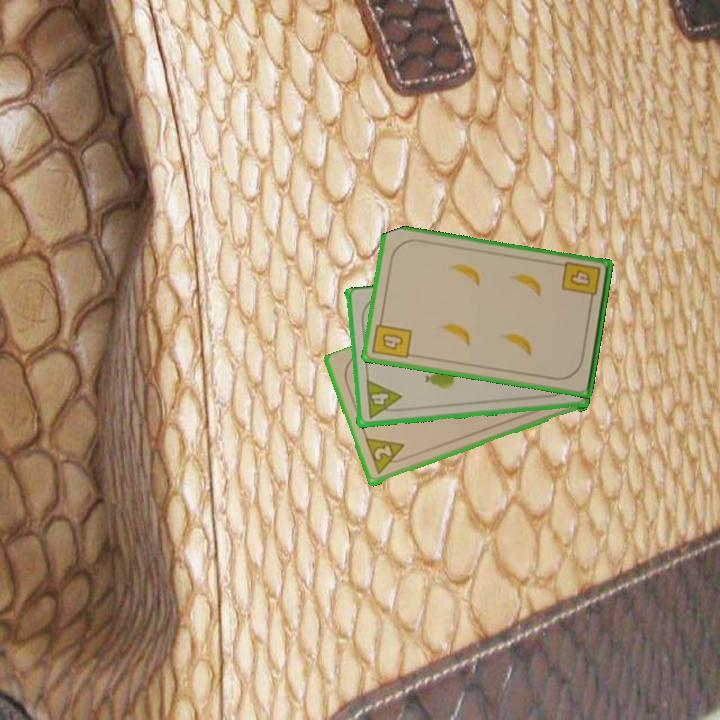2p: (362, 435, 410, 479)
4b: (558, 258, 604, 307), (369, 314, 415, 362)
4p: (362, 377, 404, 422)
